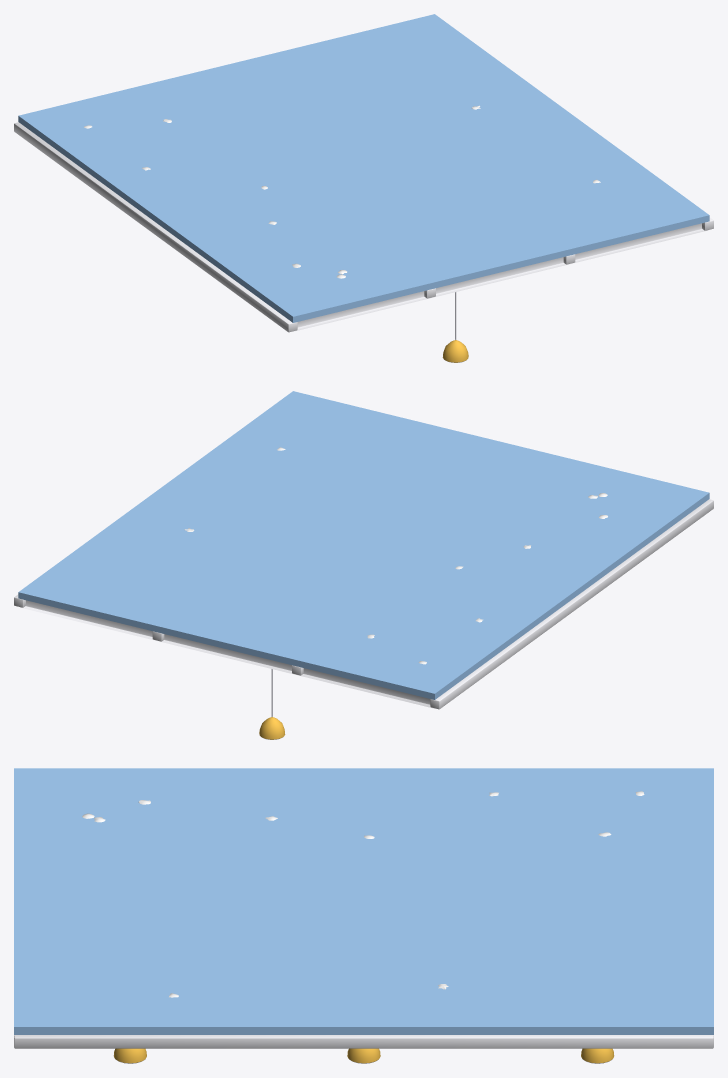
File: CeilingSky.fbx
The picture shows the model from 3 angles, top to bottom: view 1: azimuth 30°, elevation 25°; view 2: azimuth 150°, elevation 25°; view 3: azimuth 270°, elevation 25°; orthographic projection. The views are drawn at different scales.
Parts seen in each view (by area): view 1: CeilingSky; view 2: CeilingSky; view 3: CeilingSky.
Part boxes in pixels (box(x1,y1,x2,y2)): CeilingSky: box(14, 14, 713, 362); CeilingSky: box(14, 391, 713, 739); CeilingSky: box(14, 768, 713, 1063).
Bounding box in the file's own units: 7160 × 2042 × 8000.
